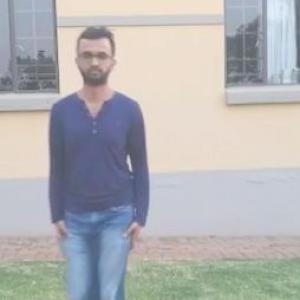follow: (41, 27, 146, 299)
